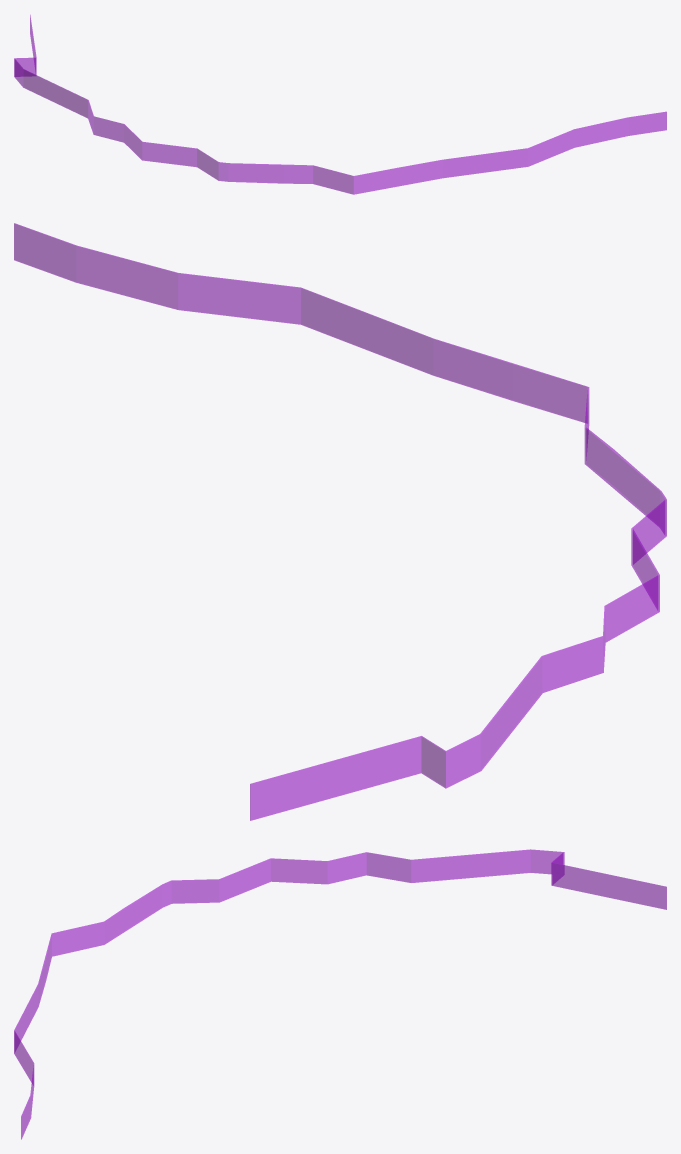
File: SouthIslandLineWest_0.glb
3 views of the same model, one above another, from view 1: azimuth 30°, elevation 25°; view 2: azimuth 150°, elevation 25°; view 3: azimuth 270°, elevation 25° (orthographic). The views are drawn at different scales.
Visible parts, largest first — view 1: from extrude; view 2: from extrude; view 3: from extrude.
Part boxes in pixels (x1,y1,x2,y2): from extrude: (14, 15, 666, 194); from extrude: (14, 223, 666, 820); from extrude: (14, 849, 666, 1139).
Bounding box in the file's own units: 24.86 × 1 × 25.69.
